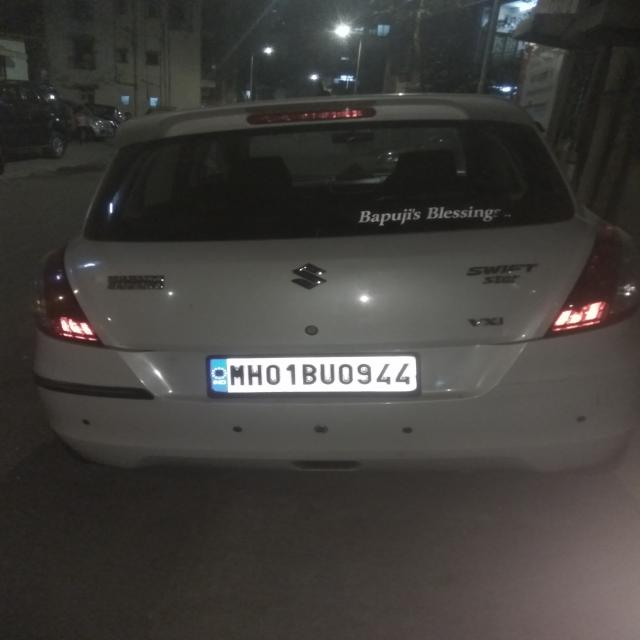Number-Plate: (210, 355, 420, 391)
